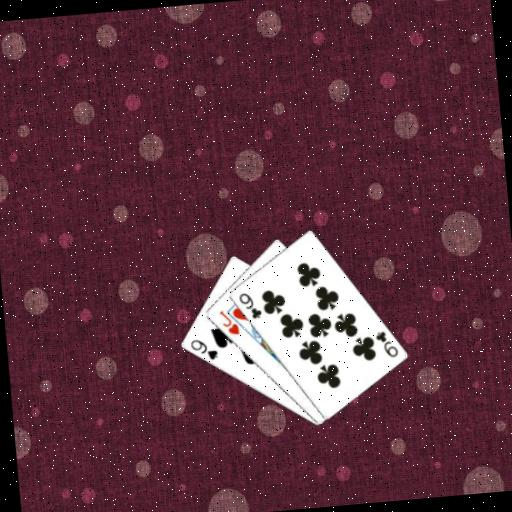9C: (235, 289, 264, 323), (372, 327, 400, 361)
9S: (187, 335, 220, 364)
JH: (215, 306, 241, 338)
